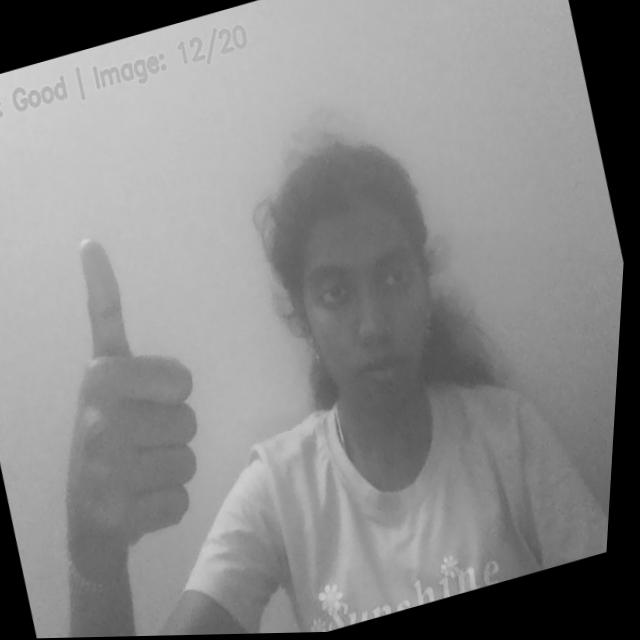Good: (0, 210, 250, 581)
